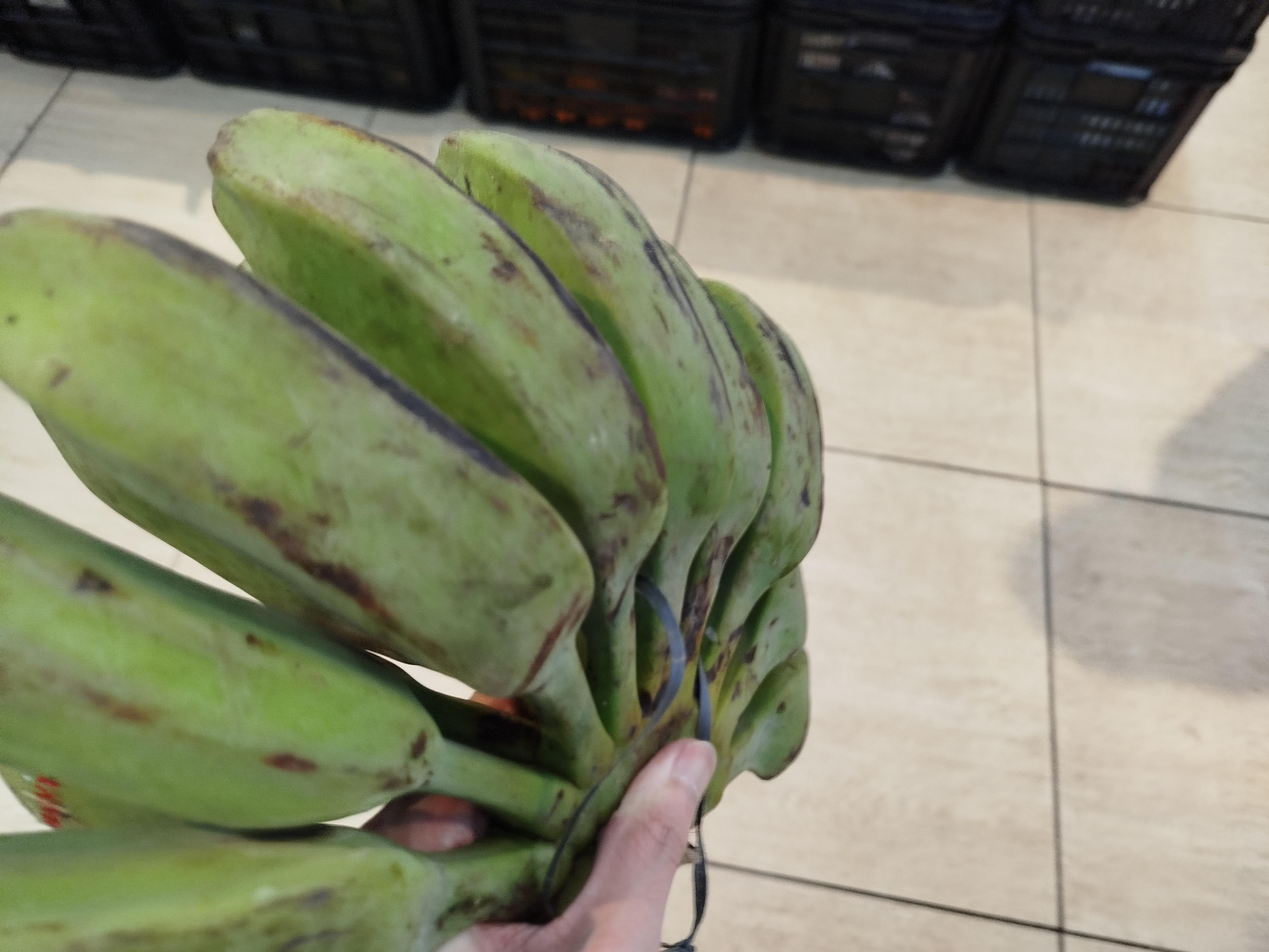underripe: (0, 110, 823, 952)
